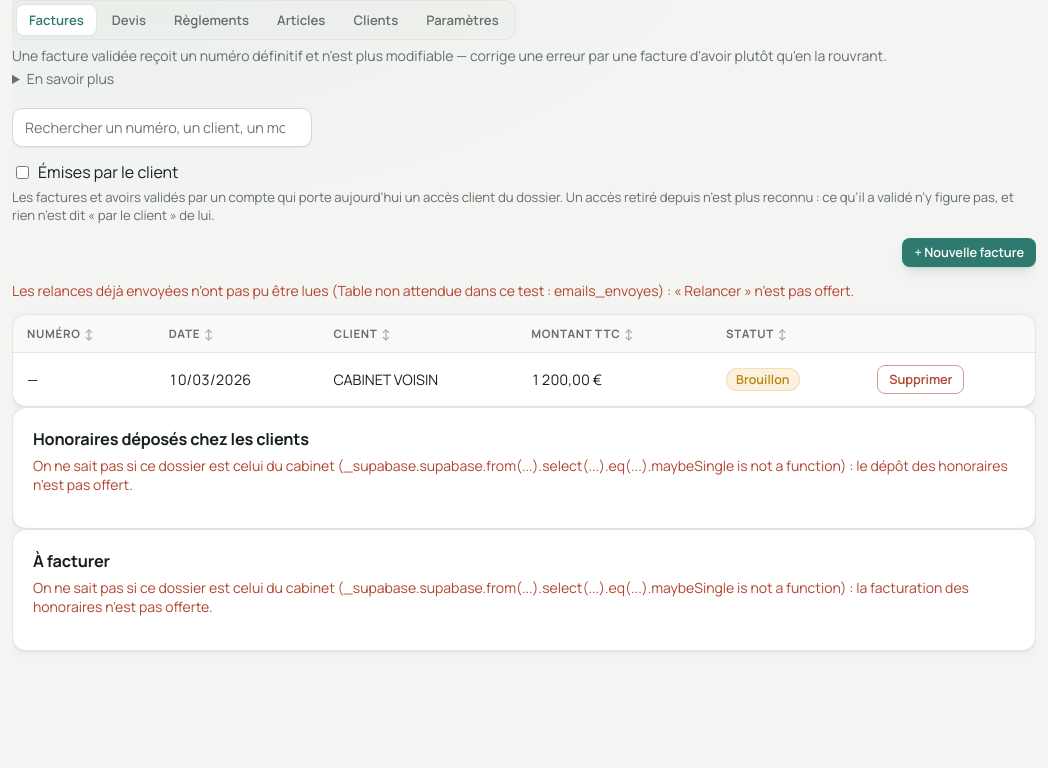
FacturesTab — la suppression d'un brouillon › dit un refus de la base, et la ligne reste — au lieu de réapparaître sans un mot
This screenshot has width=1048, height=768.
Step 1. Click the button "Supprimer" → (921, 379), box [877,365,964,394]
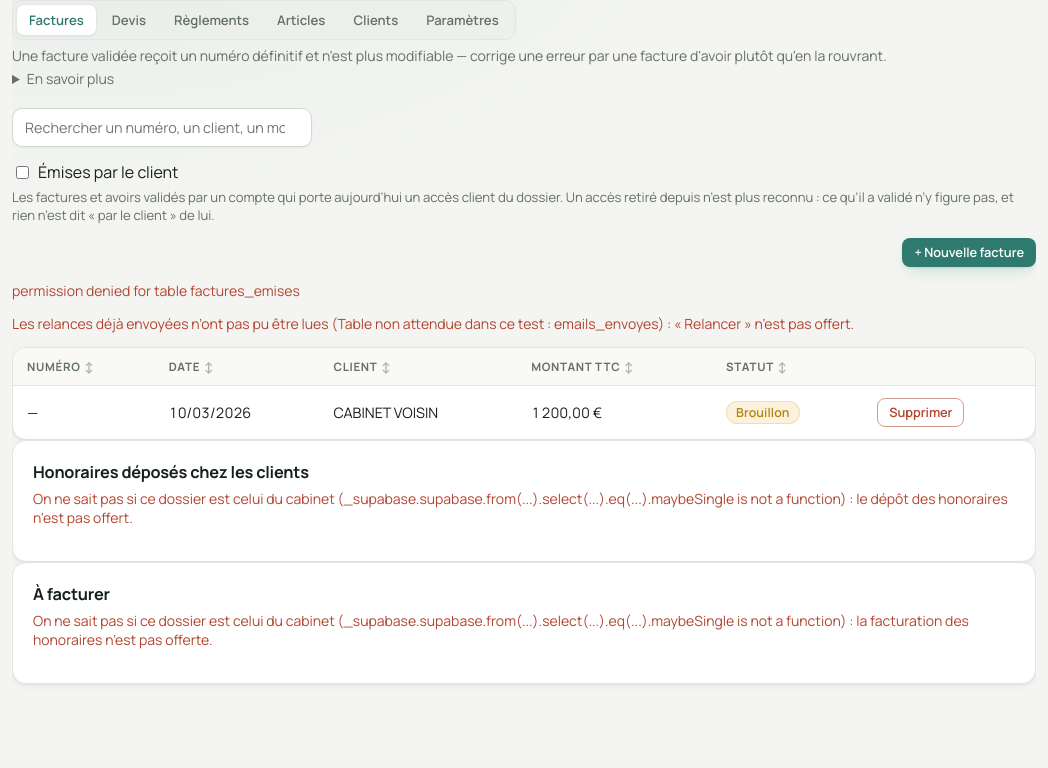
Expected: the text "CABINET VOISIN" is shown, [320,385,517,439]
Expected: the text "permission denied for table factures_emises" is shown, [12,281,300,300]
